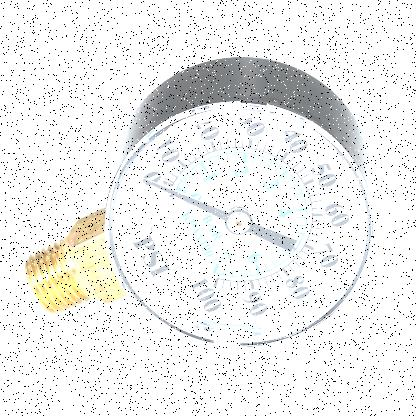needle: (143, 177, 228, 220)
